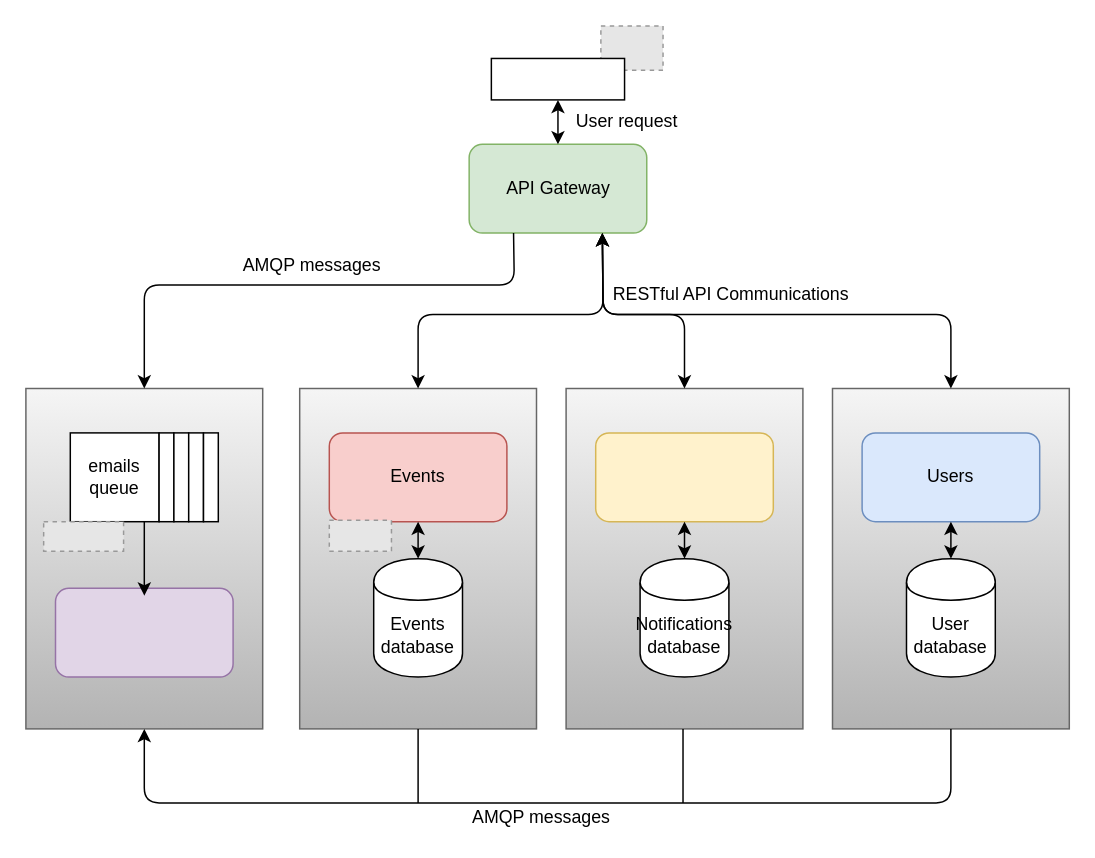
The diagram is 1095 pixels wide and 858 high, and some of its shapes have lost their labels. Grey dashed boxes stand in for pictures. The shapes that lost their labels are listed below. From the top down, each one's centre as x and y in pixels, then its label:
point (557, 78): FrontEnd
point (683, 476): Notifications
point (143, 632): EmailSender
